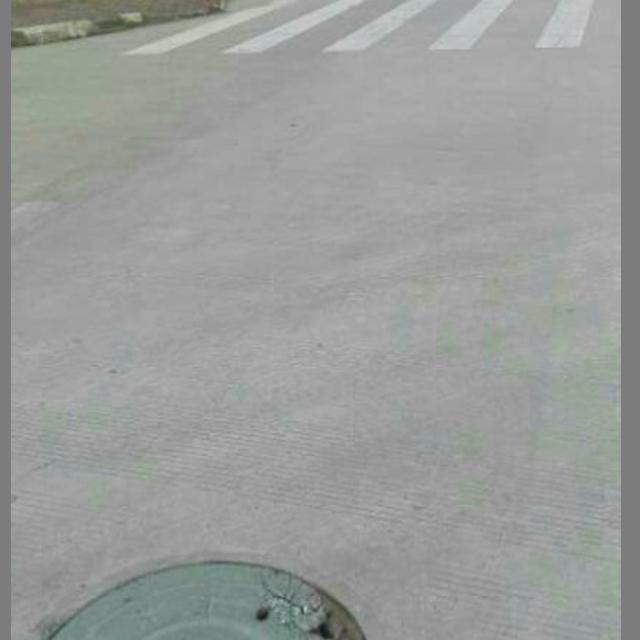broke: (14, 562, 375, 640)
